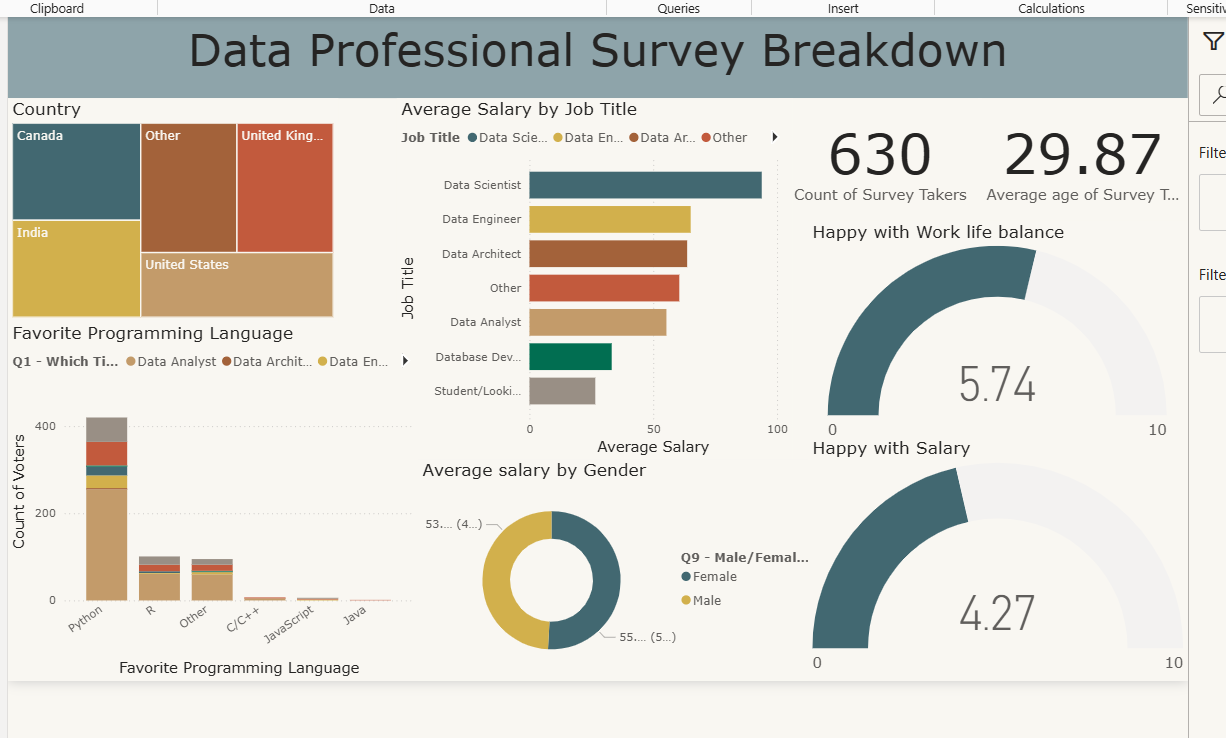

This screenshot's page, from the dashboard's own definition file:
{"tool":"powerbi","page":{"name":"Page 1","canvas":[1280,720],"ordinal":0},"visuals":[{"type":"textbox","box":[0,0,1280.3,88.2],"z":0},{"type":"card","fields":{"Values":["Count(Data Professional Survey (2).Unique ID)"]},"box":[836.8,88.2,219.7,132.9],"z":1000},{"type":"card","fields":{"Values":["Avg(Data Professional Survey (2).Q10 - Current Age)"]},"box":[1052.4,88.2,227.8,132.9],"z":2000},{"type":"barChart","title":"Average Salary by Job Title","fields":{"Category":["Data Professional Survey (2).Q1 - Which Title Best Fits your Current Role?.1"],"Y":["Avg(Data Professional Survey (2).Average Salary)"],"Series":["Data Professional Survey (2).Q1 - Which Title Best Fits your Current Role?.1"]},"box":[421.8,88.2,429.9,391.9],"z":3000},{"type":"columnChart","title":"Favorite Programming Language","fields":{"Category":["Data Professional Survey (2).Q5 - Favorite Programming Language.1"],"Y":["CountNonNull(Data Professional Survey (2).Unique ID)"],"Series":["Data Professional Survey (2).Q1 - Which Title Best Fits your Current Role?.1"]},"box":[0,330.9,444.8,389.2],"z":4000},{"type":"treemap","title":"Country","fields":{"Group":["Data Professional Survey (2).Q11 - Which Country do you live in?.1"],"Values":["Count(Data Professional Survey (2).Q11 - Which Country do you live in?.1)"]},"box":[0,88.2,358,242.8],"z":5000},{"type":"gauge","title":"Happy with Work life balance","fields":{"Y":["Avg(Data Professional Survey (2).Q6 - How Happy are you in your Current Position with the following? (Work/Life Balance)"],"MinValue":["Min(Data Professional Survey (2).Q6 - How Happy are you in your Current Position with the following? (Work/Life Balance)"],"MaxValue":["Max(Data Professional Survey (2).Q6 - How Happy are you in your Current Position with the following? (Work/Life Balance)"]},"box":[868,221.1,410.9,245.5],"z":6000},{"type":"gauge","title":"Happy with Salary","fields":{"Y":["Avg(Data Professional Survey (2).Q6 - How Happy are you in your Current Position with the following? (Salary))"],"MinValue":["Min(Data Professional Survey (2).Q6 - How Happy are you in your Current Position with the following? (Salary))"],"MaxValue":["Max(Data Professional Survey (2).Q6 - How Happy are you in your Current Position with the following? (Salary))1"]},"box":[868,455.7,412.3,264.5],"z":7000},{"type":"donutChart","title":"Average salary by Gender","fields":{"Category":["Data Professional Survey (2).Q9 - Male/Female?"],"Y":["Avg(Data Professional Survey (2).Average Salary)"]},"box":[444.8,480.1,423.1,240.1],"z":8000}]}

Visuals, with their boxes on the page's 1280x720 design canvas (x1, y1, x2, y2). These are canvas units, not pixel positions in the 1226x738 screenshot, which may show the page scaled, cropped or inside an application window:
textbox: <region>0, 0, 1280, 88</region>
card - Count(Data Professional Survey (2).Unique ID): <region>837, 88, 1056, 221</region>
card - Avg(Data Professional Survey (2).Q10 - Current Age): <region>1052, 88, 1280, 221</region>
"Average Salary by Job Title" barChart: <region>422, 88, 852, 480</region>
"Favorite Programming Language" columnChart: <region>0, 331, 445, 720</region>
"Country" treemap: <region>0, 88, 358, 331</region>
"Happy with Work life balance" gauge: <region>868, 221, 1279, 467</region>
"Happy with Salary" gauge: <region>868, 456, 1280, 720</region>
"Average salary by Gender" donutChart: <region>445, 480, 868, 720</region>
